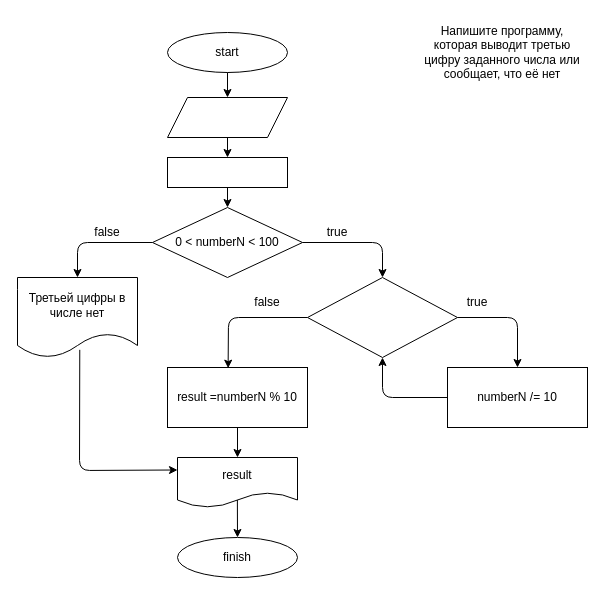
Some shapes in this 605 by 595 pixel diagram are drawn without their labels. Here are the shapes that lost their labels. From the top down, the box of each, then its label:
(166, 96, 288, 138): numberN
(166, 156, 288, 188): int result = 0
(306, 276, 458, 358): number N => 1000
